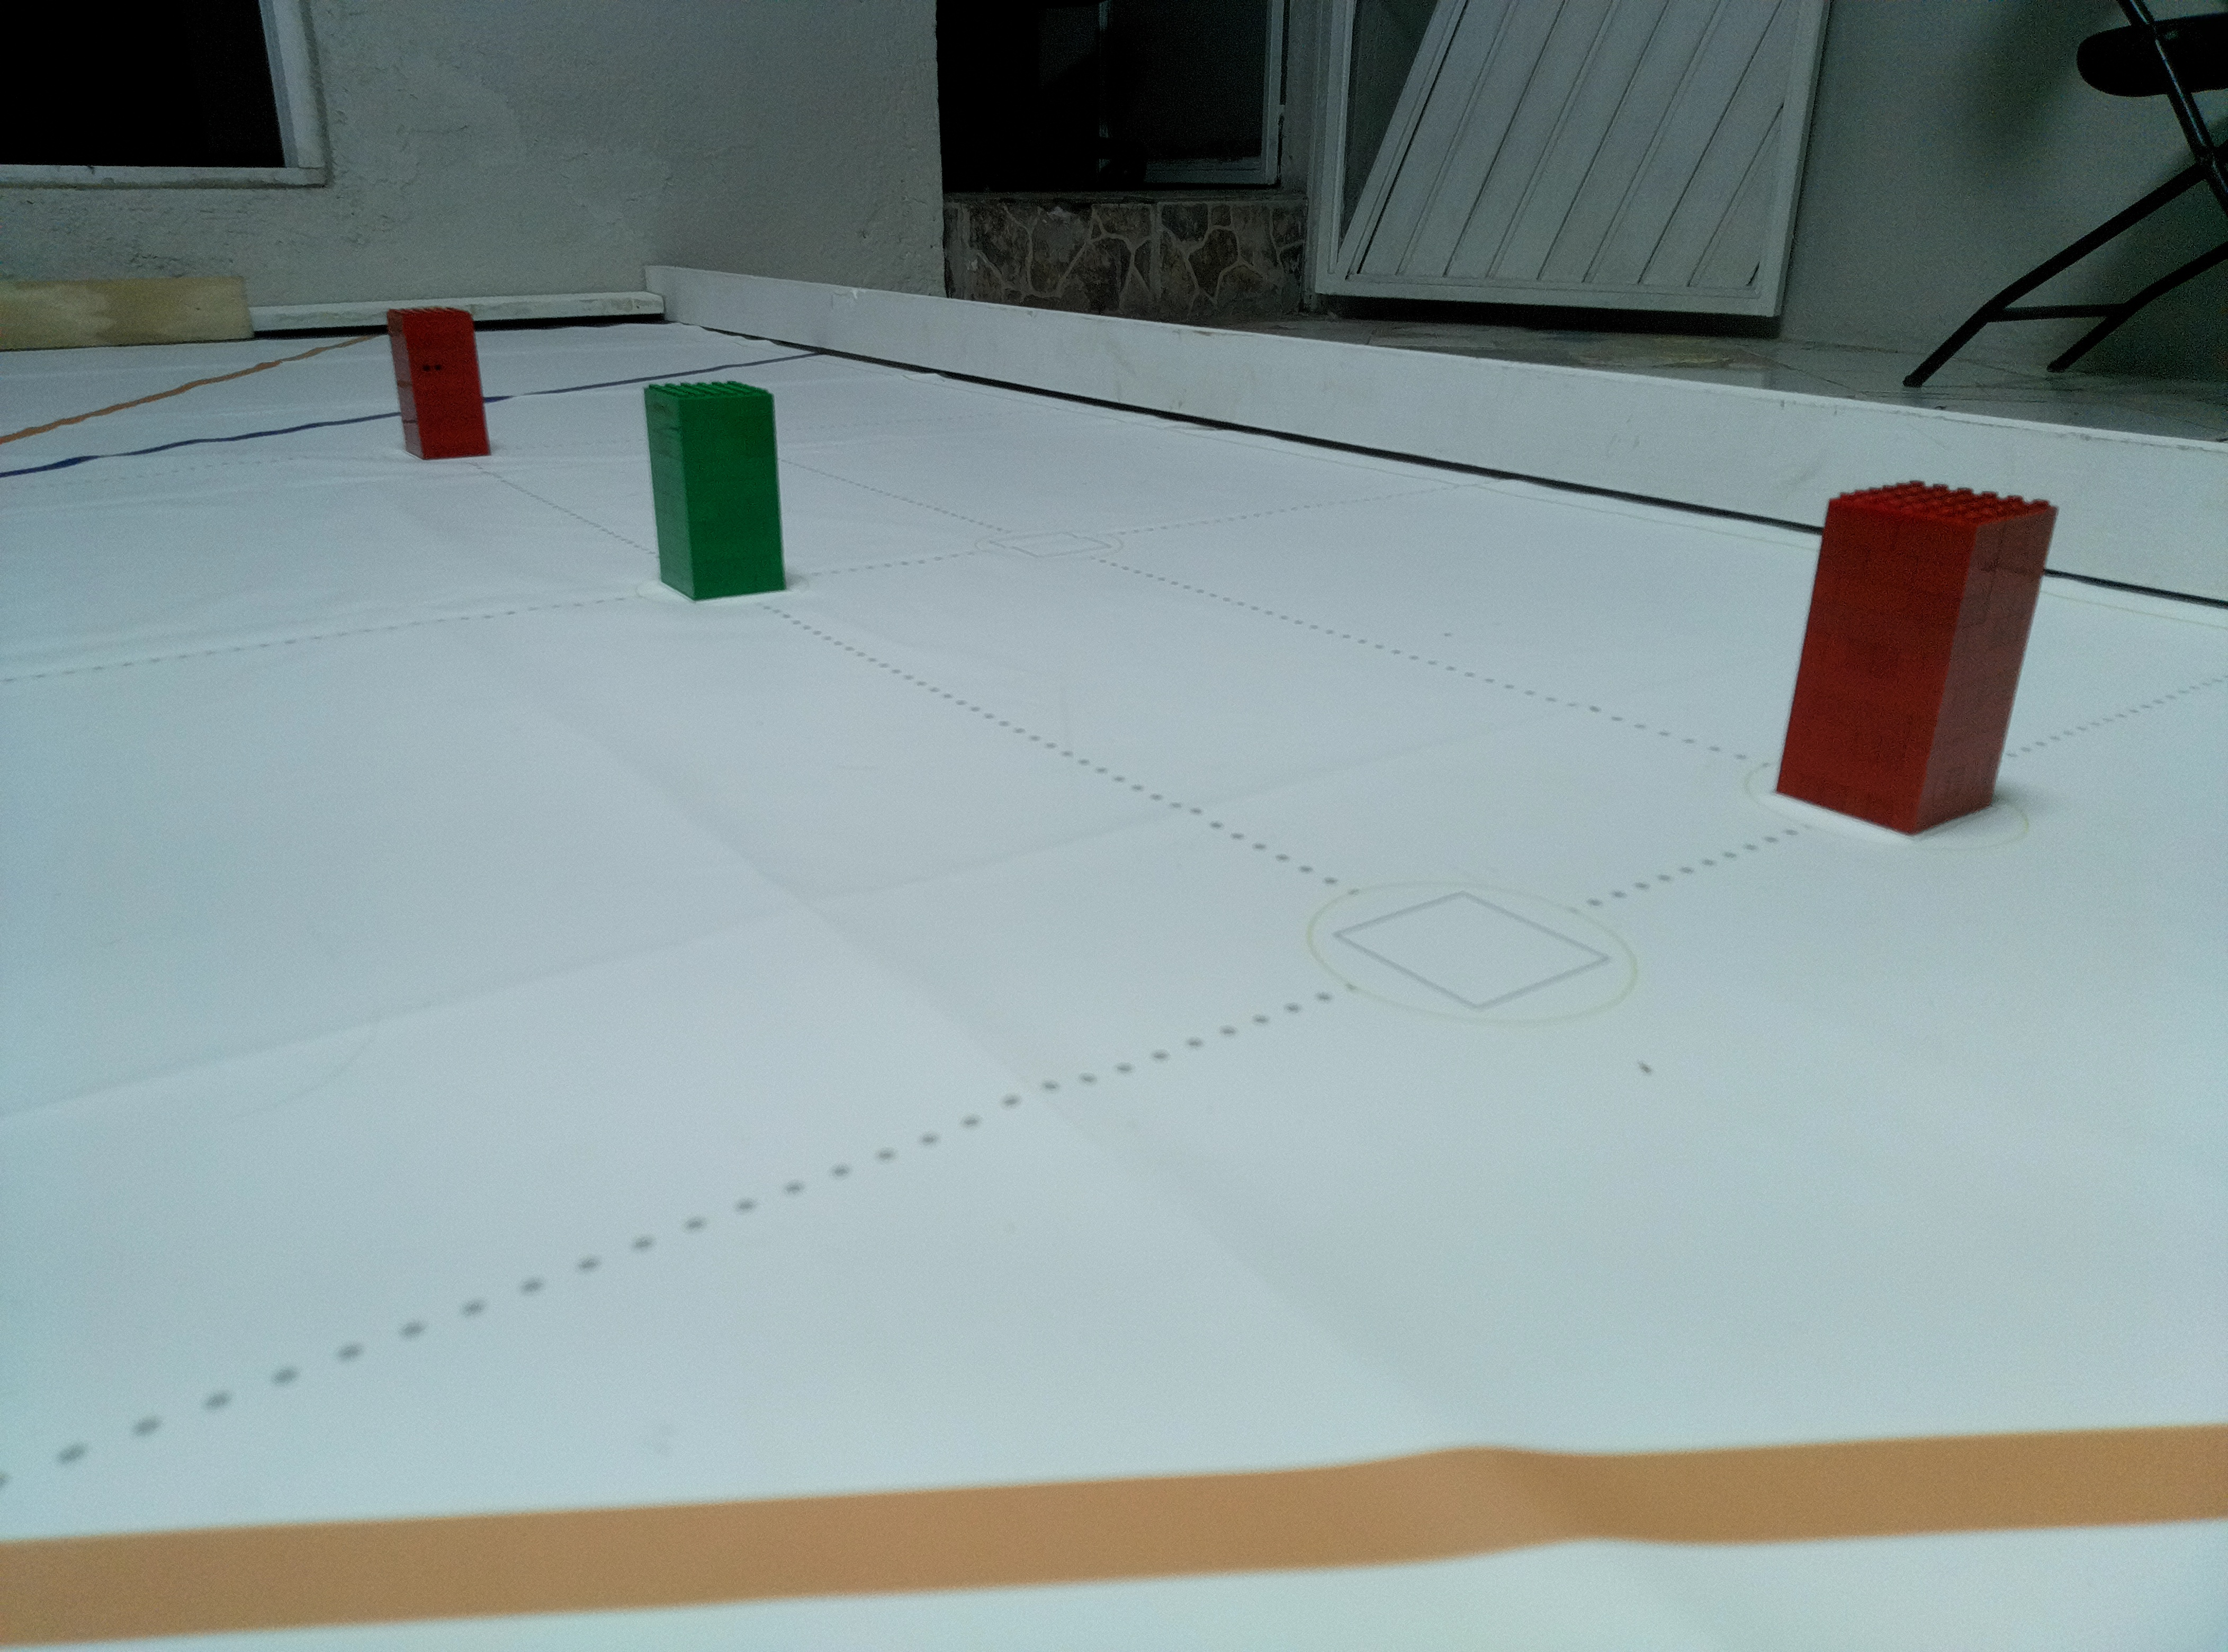greenbox: (639, 378, 790, 602)
redbox: (1770, 477, 2061, 838), (385, 307, 493, 460)
